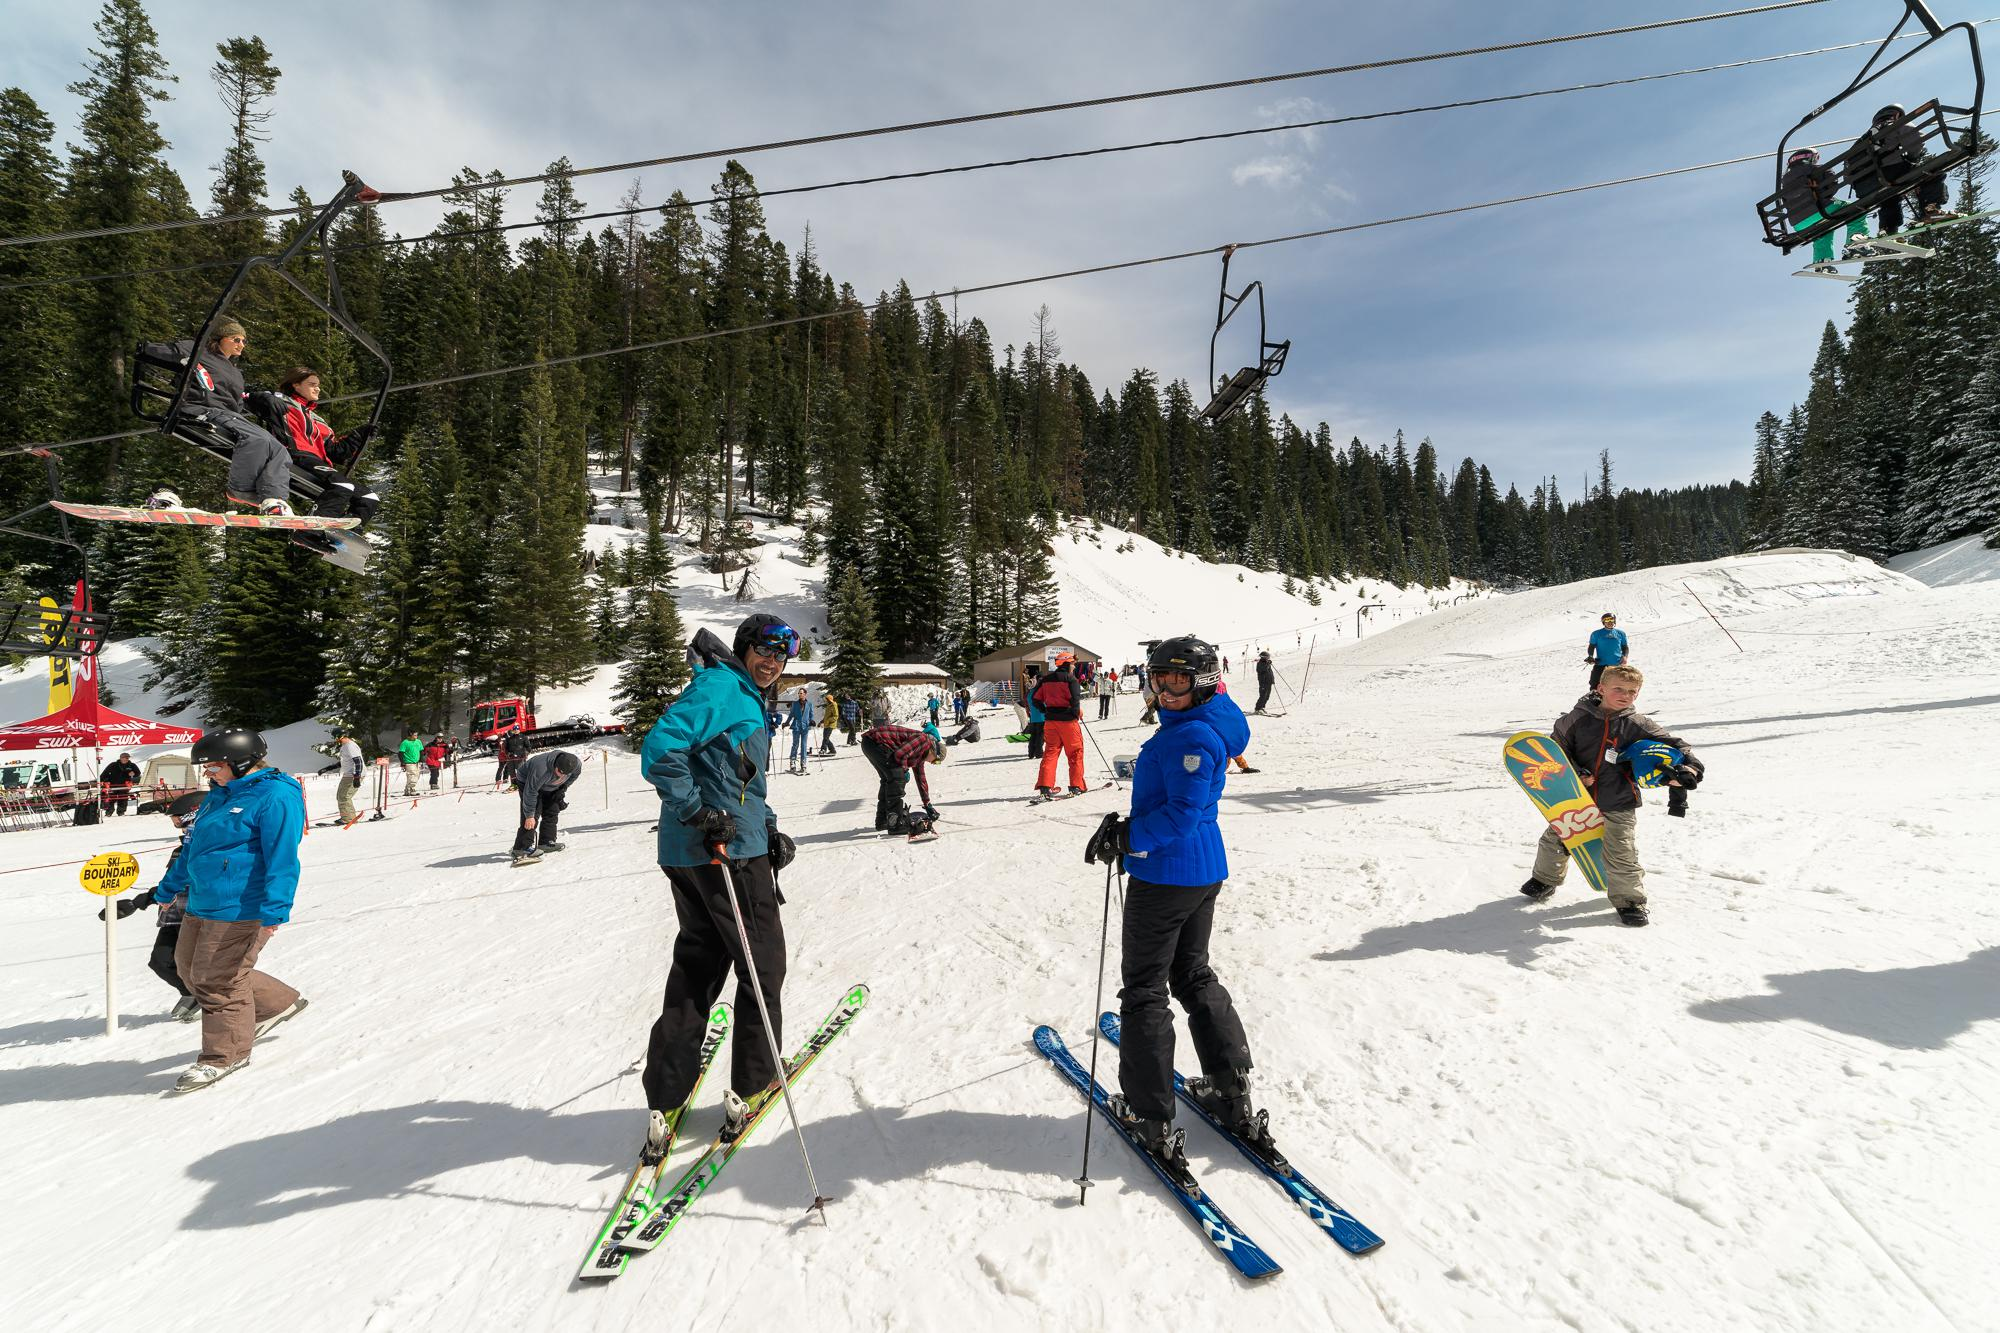without_mask: (1132, 634, 1224, 728), (734, 614, 811, 690), (1583, 662, 1644, 720), (289, 351, 331, 404), (217, 312, 255, 370)
